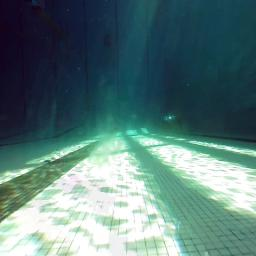Full: (104, 40, 112, 47)
front: (160, 115, 181, 129)
